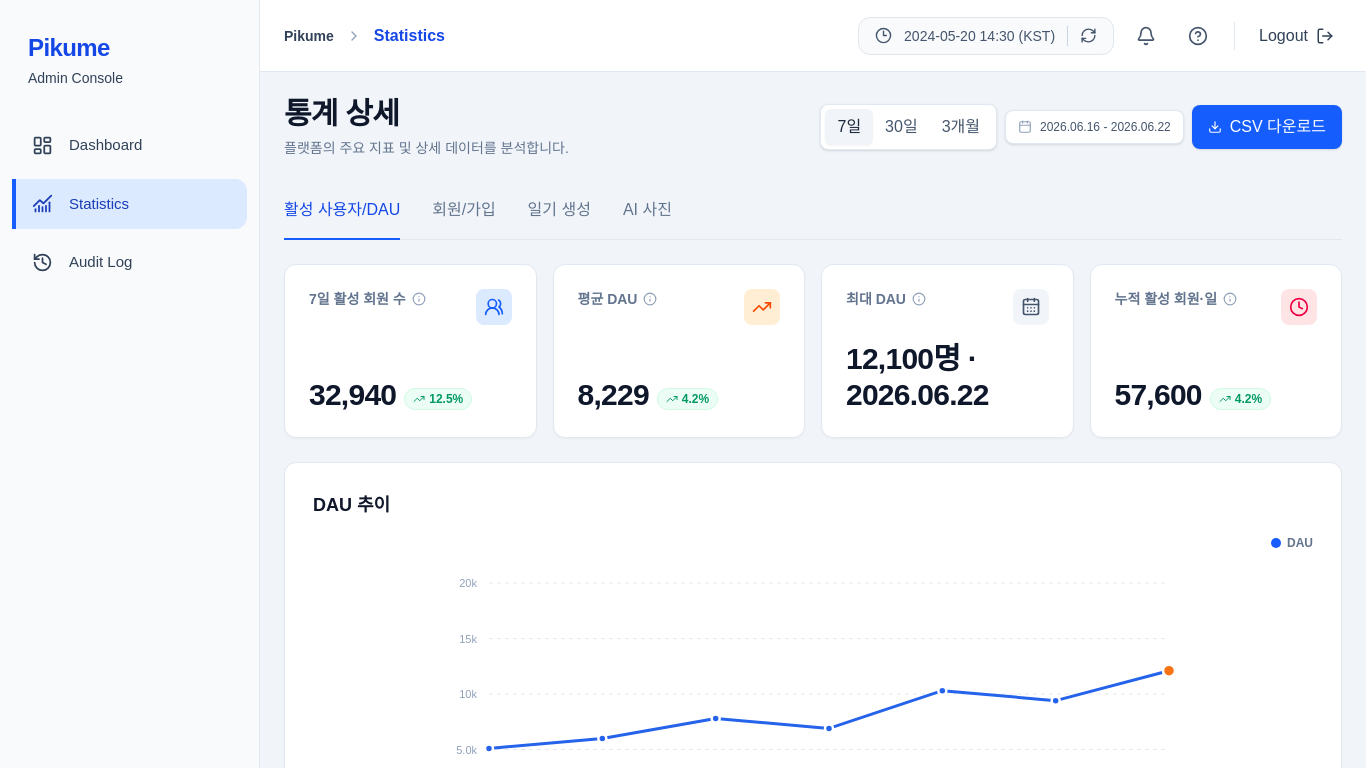
it: StatisticsPage › updates view when clicking different categories
The image size is (1366, 768).
Click the button "일기 생성" at {"x": 559, "y": 211}, box x1=528 y1=182 x2=591 y2=240
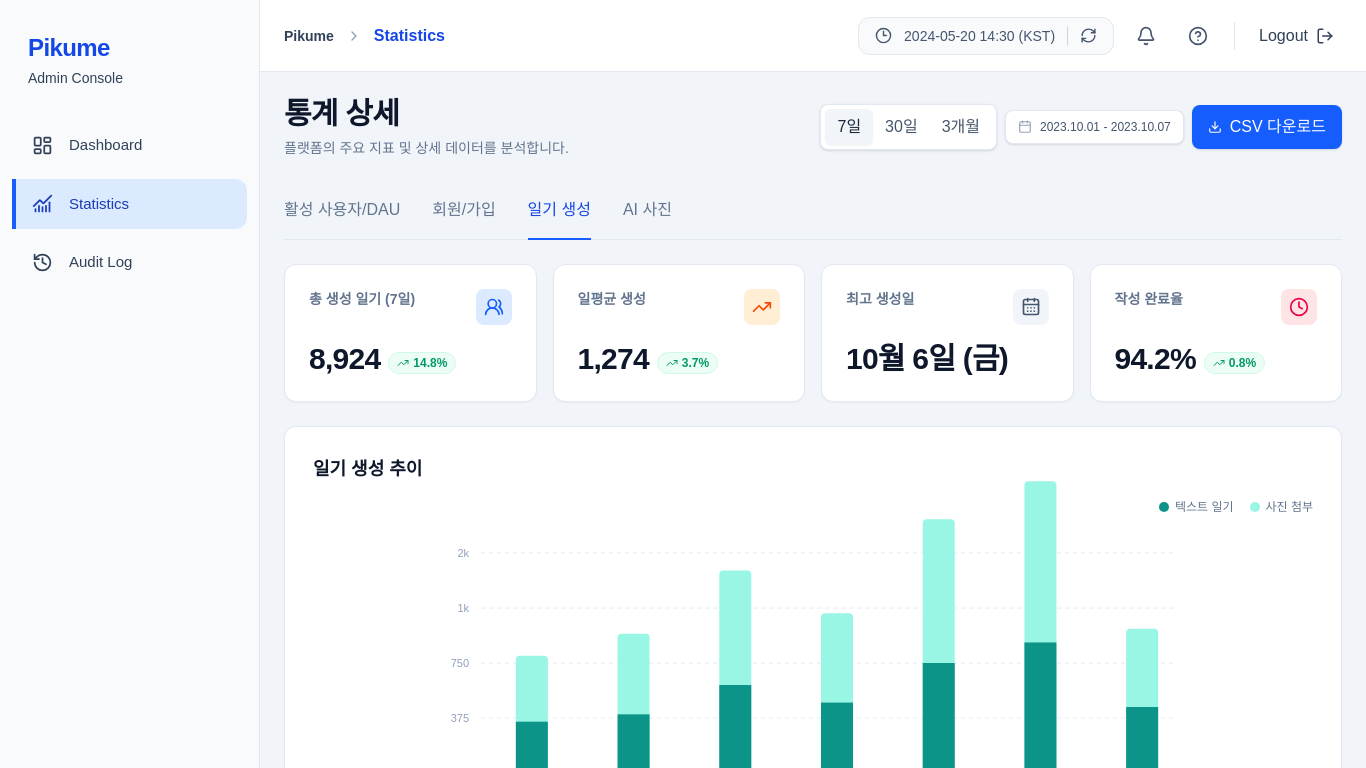
Expected: the heading "일기 생성 추이" is shown, x1=313 y1=459 x2=422 y2=479
Expected: the text "총 생성 일기 (7일)" is shown, x1=309 y1=289 x2=415 y2=309
Expected: the text "8,924" is shown, x1=309 y1=341 x2=380 y2=377
